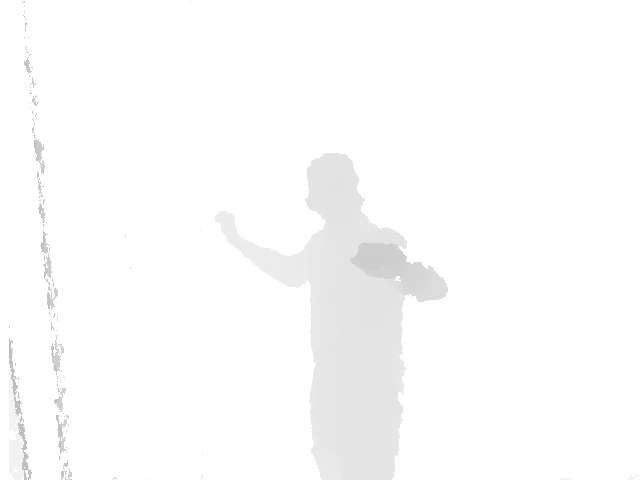head: (304, 152, 365, 222)
person: (214, 153, 448, 480)
